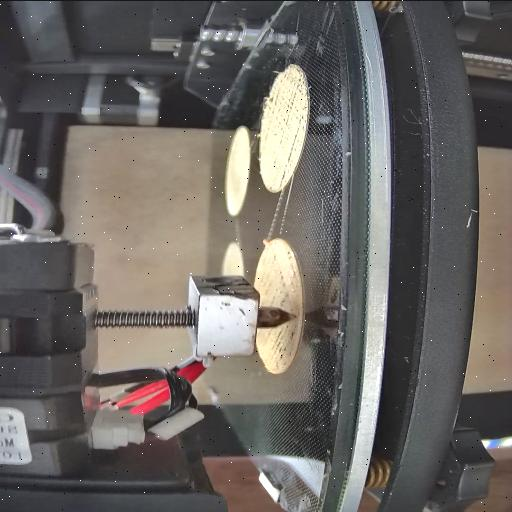under_extrusion: (264, 70, 308, 162), (262, 246, 294, 306), (262, 322, 298, 368), (270, 168, 294, 188)
